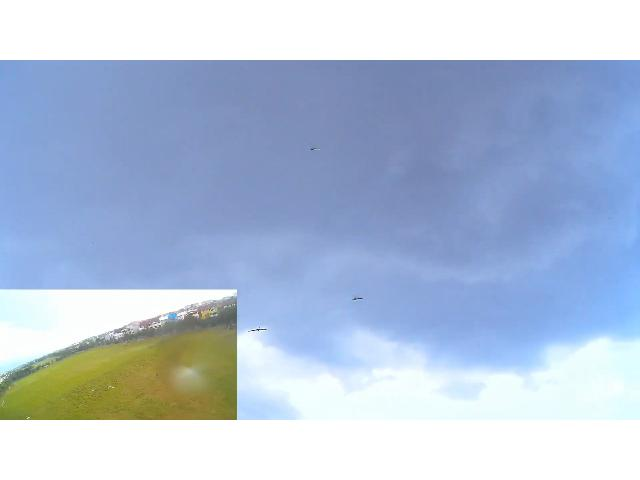Anti-Drone: (242, 323, 276, 339)
